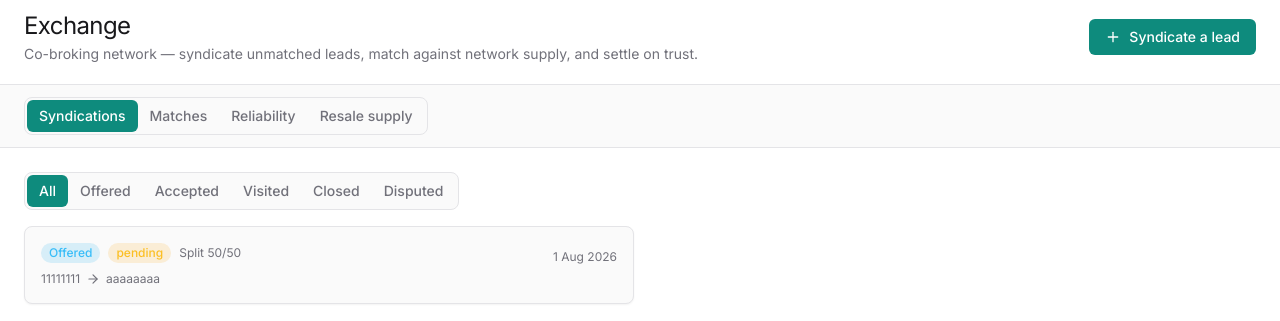
ExchangePage tabs › offers no header action on the read-only tabs
The image size is (1280, 321).
Step 1. Click the button "Reliability" → (263, 116), box x1=219 y1=100 x2=308 y2=132
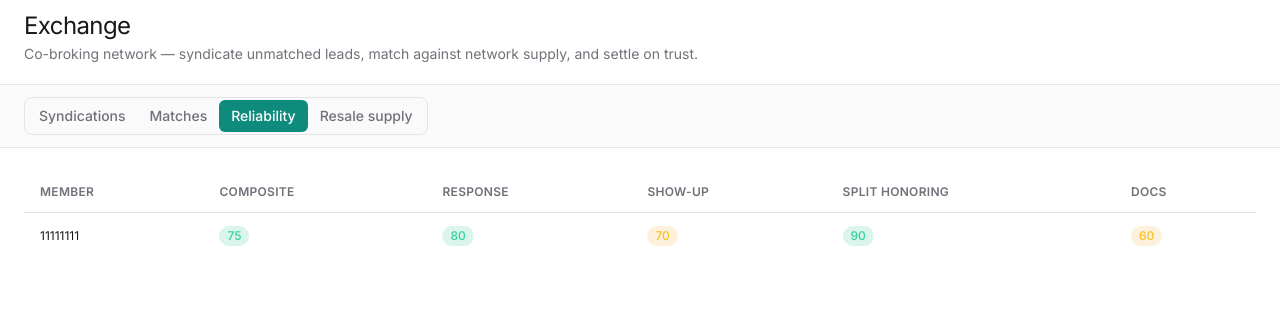
Expected: the button "Syndicate a lead" is gone
